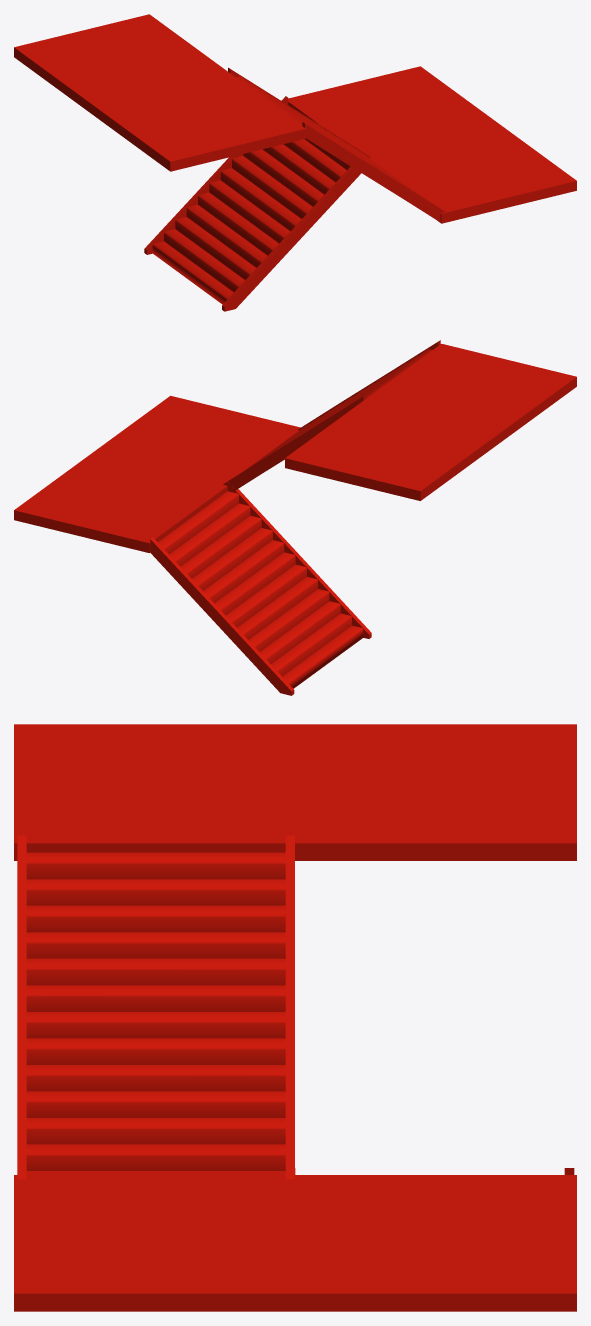
Rendered from IndBuilding1_IntStairs_A.fbx.
3 renders of one model, top to bottom at view 1: azimuth 30°, elevation 25°; view 2: azimuth 150°, elevation 25°; view 3: azimuth 270°, elevation 25°, orthographic. The views are drawn at different scales.
Parts seen in each view (by area): view 1: IndBuilding1_IntStairs_A; view 2: IndBuilding1_IntStairs_A; view 3: IndBuilding1_IntStairs_A.
Boxes of the visible parts, x1,y1,x2,y2 form: IndBuilding1_IntStairs_A: (14,14,576,311); IndBuilding1_IntStairs_A: (14,340,576,695); IndBuilding1_IntStairs_A: (14,724,576,1311).
Bounding box in the file's own units: 9 × 5.1 × 6.
